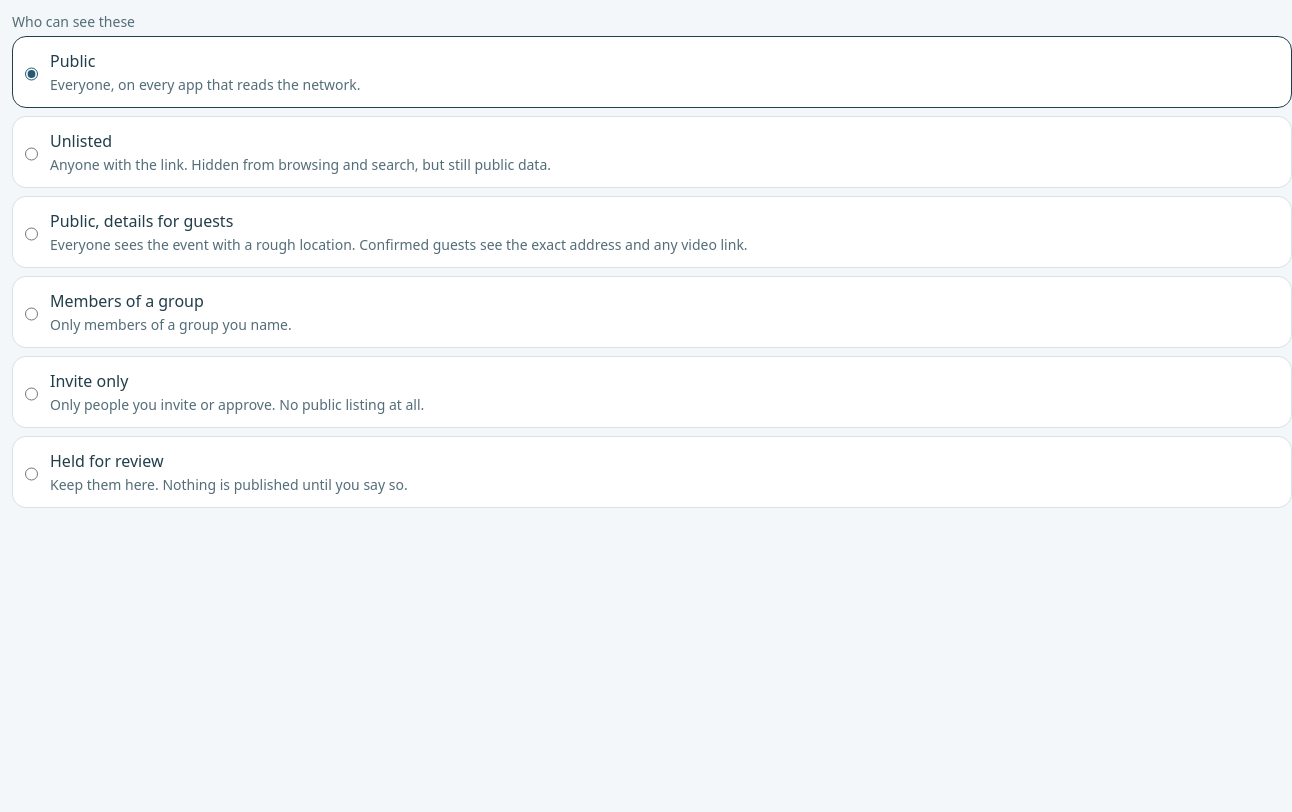
Test: VisibilityPicker › warns that unlisted is still public data
This screenshot has width=1292, height=812.
Click the radio button labelled "Unlisted": [32, 154] box 25,133 -> 38,175
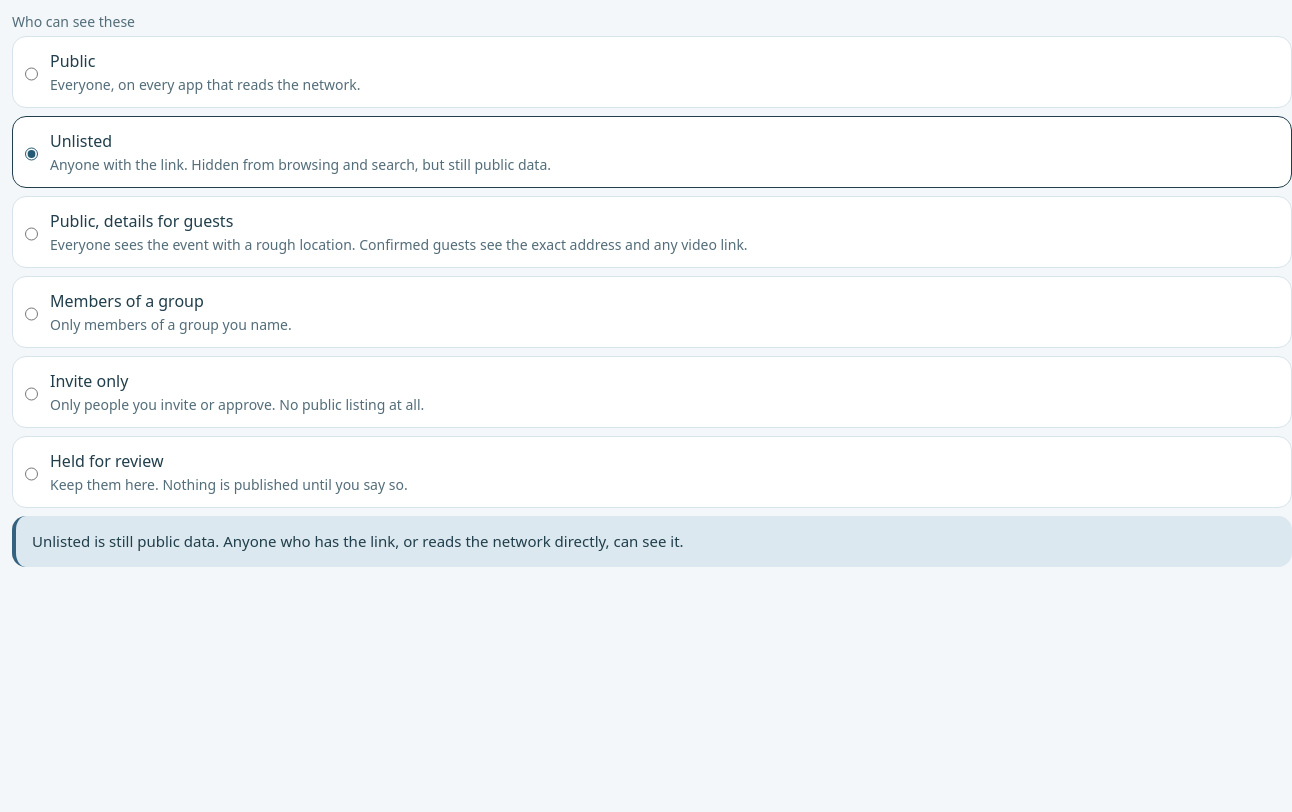
expect the text "Anyone who has the link, or reads the network directly" is shown: met, box 32,531 -> 684,551
